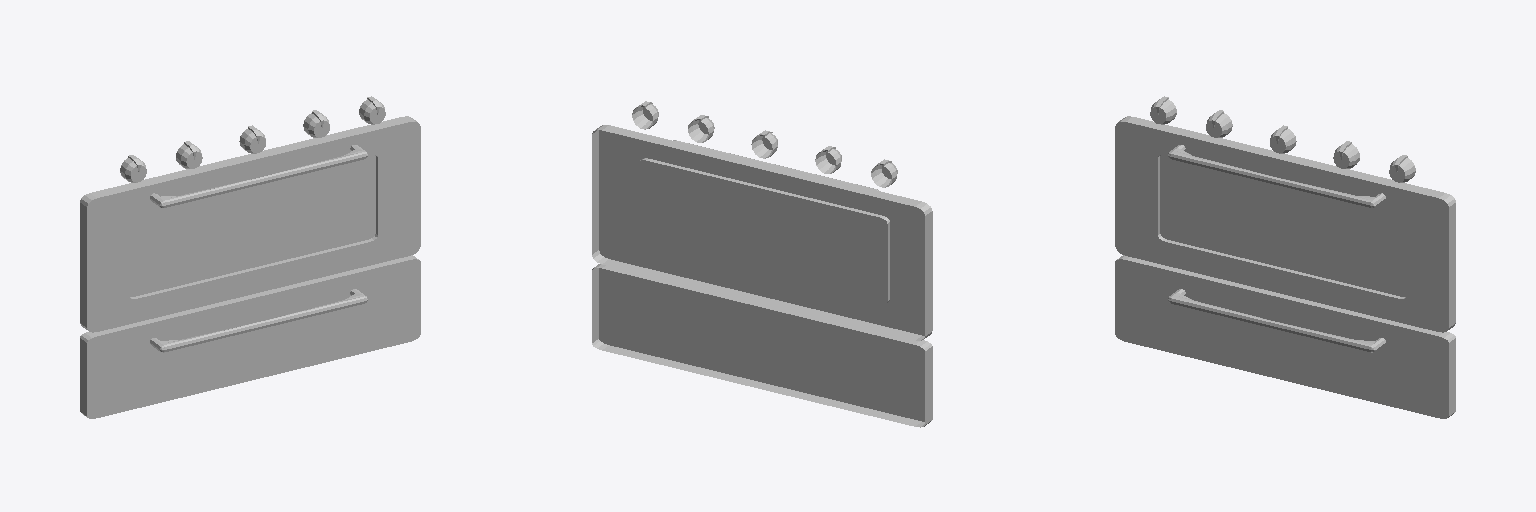
File: kitchen_stove_front_2.obj
3 views of the same model, side by side, from view 1: azimuth 30°, elevation 25°; view 2: azimuth 150°, elevation 25°; view 3: azimuth 330°, elevation 25° (orthographic).
Bounding box in the file's own units: 17.82 × 12.84 × 1.75.